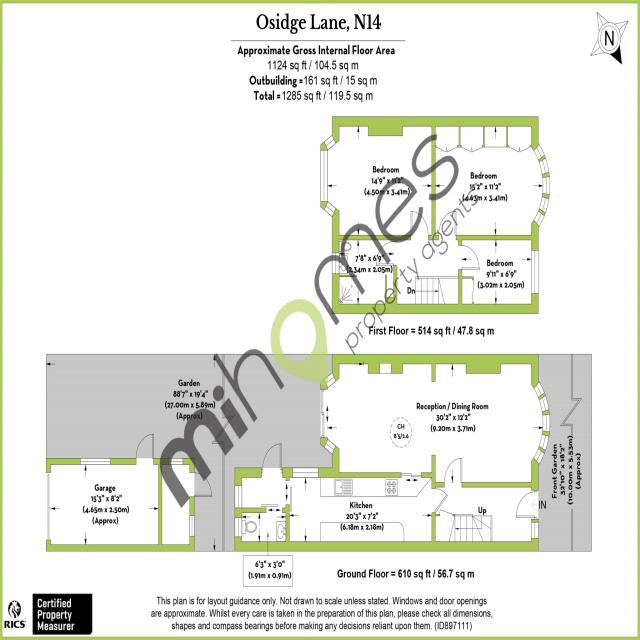DOOR: (260, 442, 284, 477), (516, 488, 539, 520), (458, 244, 481, 271), (443, 457, 463, 487), (376, 239, 397, 267), (438, 210, 457, 240), (410, 210, 429, 240), (432, 487, 449, 514)
ROOM: (320, 353, 551, 488), (431, 116, 550, 240), (320, 116, 436, 241), (286, 467, 449, 552), (458, 235, 539, 314)
WINDOW: (532, 381, 551, 466), (533, 143, 551, 228), (320, 133, 337, 218), (531, 249, 539, 295), (292, 467, 319, 479), (323, 371, 337, 389), (324, 438, 337, 455), (234, 485, 242, 509), (234, 517, 243, 538), (332, 252, 340, 274), (531, 521, 539, 539)
